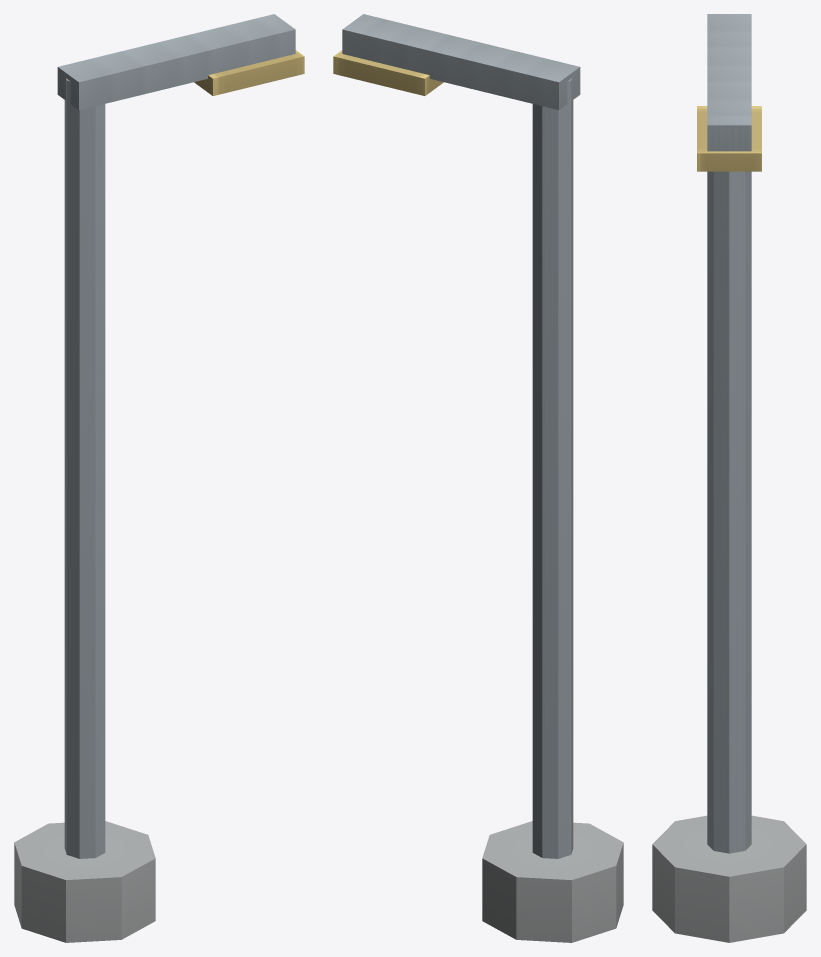
The model's file is street_lamp_modern.glb.
The picture shows the model from 3 angles, left to right: view 1: azimuth 30°, elevation 25°; view 2: azimuth 150°, elevation 25°; view 3: azimuth 270°, elevation 25°; orthographic projection. The views are drawn at different scales.
Parts seen in each view (by area): view 1: street_lamp_modern; view 2: street_lamp_modern; view 3: street_lamp_modern.
Boxes of the visible parts, <box> form: street_lamp_modern: <box>14,14,304,942</box>; street_lamp_modern: <box>333,14,623,942</box>; street_lamp_modern: <box>652,14,806,942</box>.
Bounding box in the file's own units: 1.61 × 4.83 × 0.76.
1 material, 1 textured.
